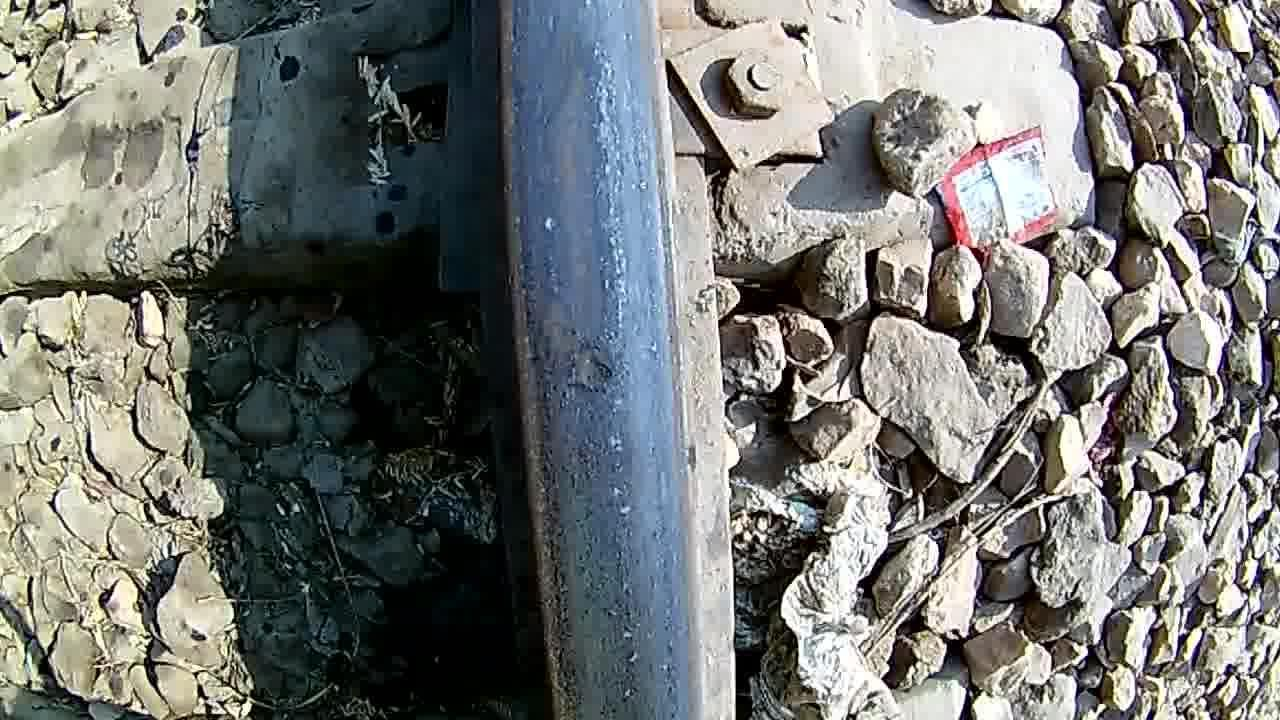crack: (500, 13, 656, 476)
